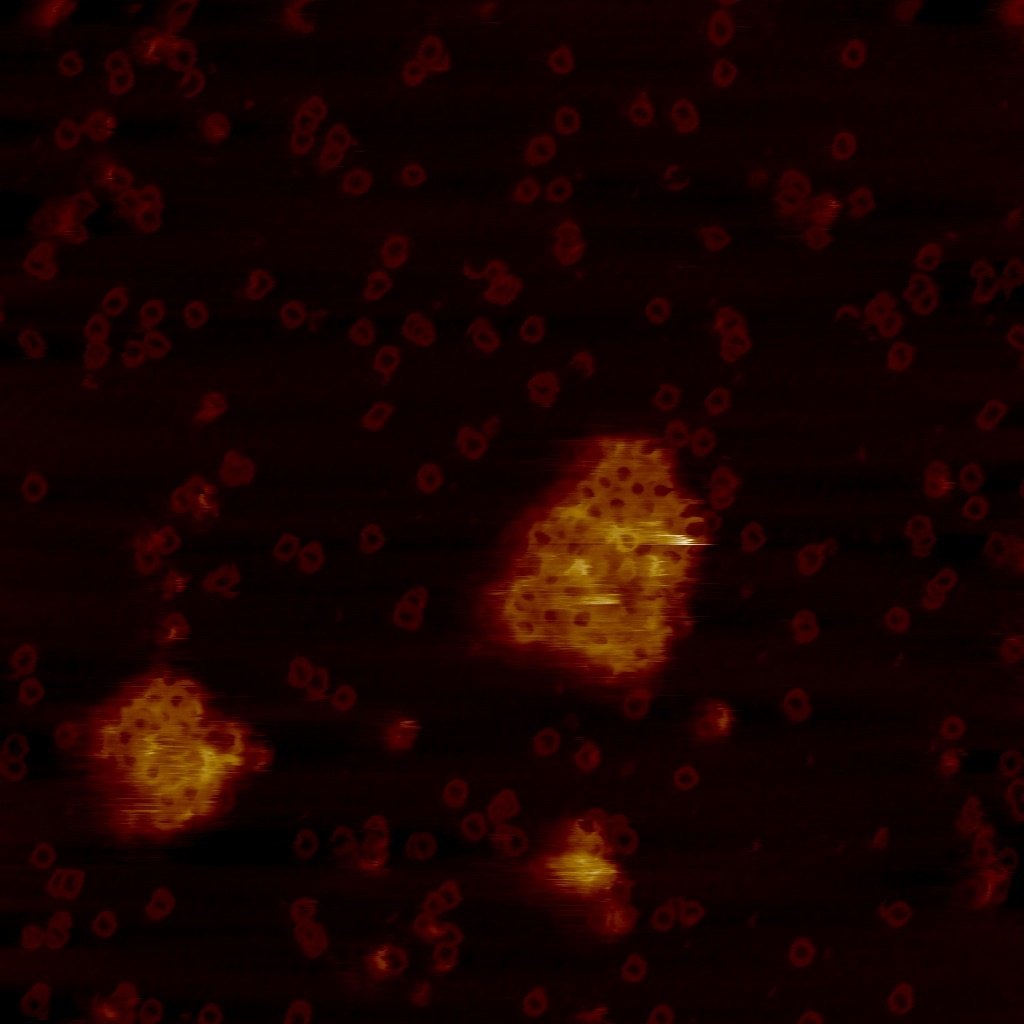-1: (21, 817, 126, 947), (435, 789, 511, 921), (457, 253, 511, 310), (200, 302, 244, 364), (37, 218, 81, 274), (176, 696, 228, 743), (292, 190, 329, 255), (472, 529, 511, 584), (353, 288, 390, 342), (256, 171, 294, 217), (407, 455, 440, 505), (392, 509, 421, 560), (424, 747, 459, 789), (56, 347, 90, 377), (486, 1, 511, 36), (233, 167, 259, 193), (362, 826, 377, 856)
2/4: (149, 161, 182, 193), (405, 591, 437, 619), (323, 300, 351, 328), (390, 272, 421, 293), (492, 318, 511, 351), (137, 1003, 166, 1024), (284, 1009, 318, 1024)
3/4: (486, 632, 511, 674)
4/4: (4, 369, 48, 410), (363, 894, 402, 936), (459, 395, 497, 436), (7, 132, 52, 166), (268, 683, 301, 728), (277, 541, 318, 577), (156, 95, 188, 136), (187, 217, 223, 253), (376, 977, 407, 1018), (334, 184, 367, 222), (276, 934, 306, 975), (196, 55, 232, 89), (109, 952, 142, 989), (276, 609, 309, 646), (6, 986, 39, 1021), (111, 686, 142, 723), (229, 517, 258, 555), (486, 738, 511, 782), (170, 893, 195, 936), (195, 9, 224, 46), (315, 128, 343, 166), (401, 243, 435, 274), (7, 310, 35, 347), (139, 380, 170, 412), (139, 898, 164, 937), (329, 36, 358, 69), (191, 384, 219, 418), (115, 94, 142, 129), (375, 340, 402, 375), (429, 709, 457, 741), (18, 729, 51, 756), (38, 42, 62, 79), (448, 458, 472, 495), (63, 741, 90, 772), (448, 499, 482, 523), (402, 289, 430, 318), (159, 765, 186, 795), (371, 610, 400, 637), (42, 105, 67, 136), (132, 296, 158, 324), (38, 176, 64, 203), (420, 566, 447, 590)
